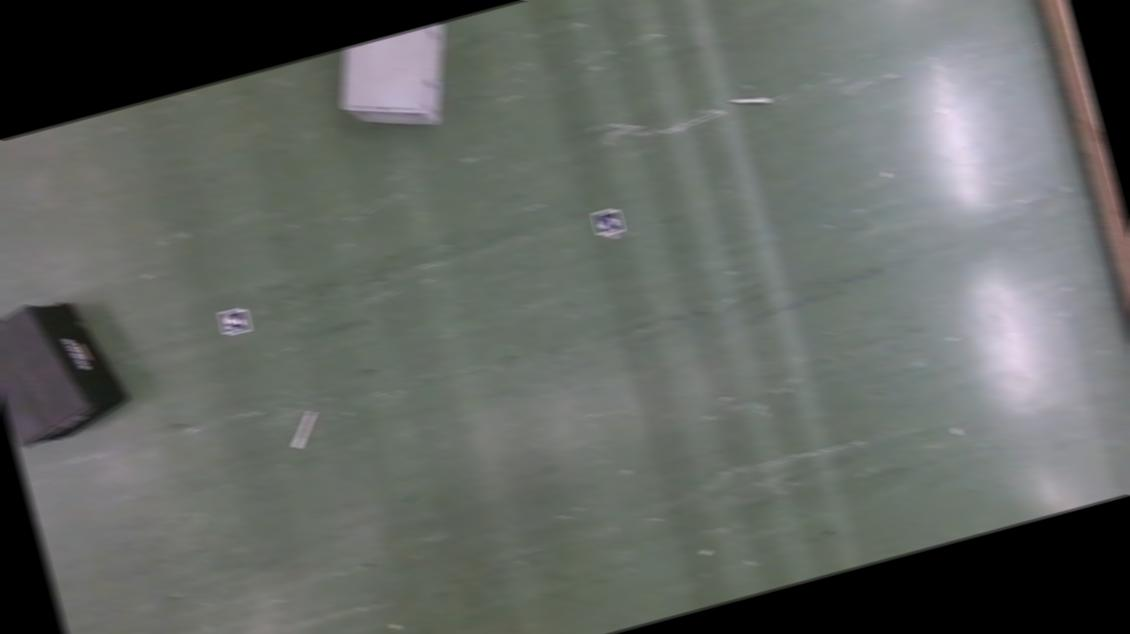probes: (286, 410, 322, 448), (732, 90, 772, 112)
rako: (0, 287, 134, 453), (325, 22, 471, 148)
